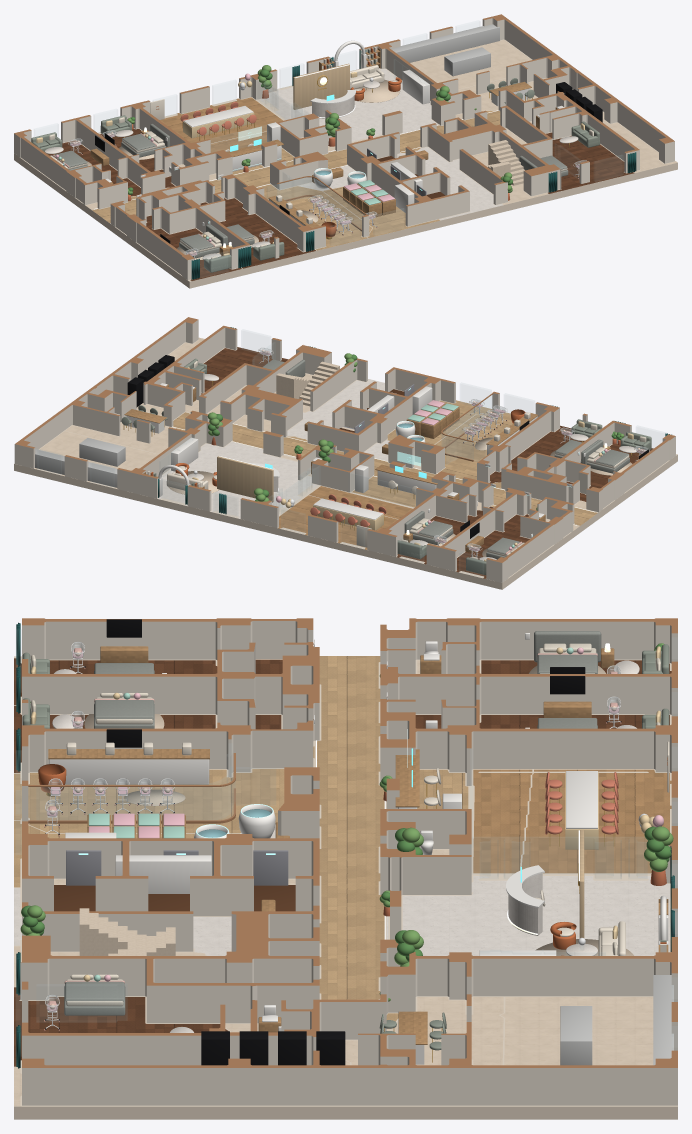
The model's file is scene_east.glb.
3 renders of one model, top to bottom at view 1: azimuth 30°, elevation 25°; view 2: azimuth 150°, elevation 25°; view 3: azimuth 270°, elevation 25°, orthographic. The views are drawn at different scales.
Parts seen in each view (by area): view 1: scene_solid, scene_glass; view 2: scene_solid, scene_glass; view 3: scene_solid, scene_glass.
Part boxes in pixels (x1,y1,x2,y2): scene_solid: (14, 14, 677, 288); scene_glass: (34, 21, 623, 277); scene_solid: (14, 317, 677, 589); scene_glass: (38, 330, 664, 576); scene_solid: (14, 618, 677, 1119); scene_glass: (16, 630, 677, 1055).
Size of the model in its own units: 33.3 by 2.8 by 20.75.
43 materials, 13 textured.
